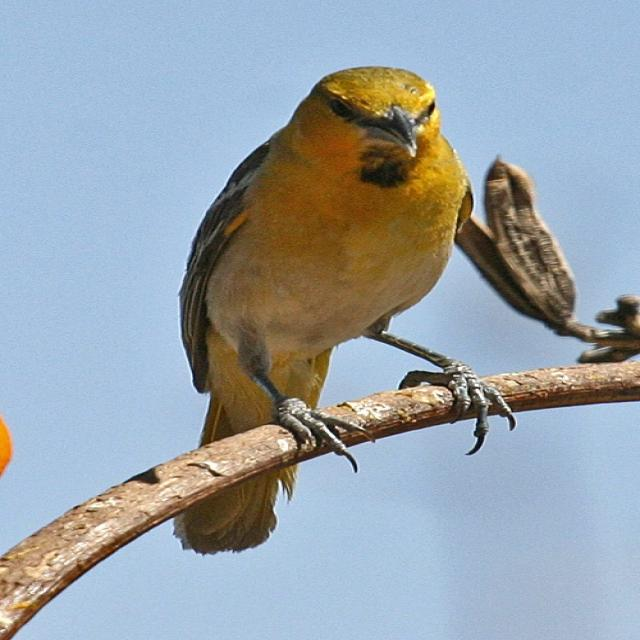bird: (162, 57, 512, 563)
